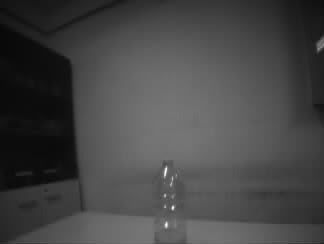Bottle: (150, 158, 187, 244)
